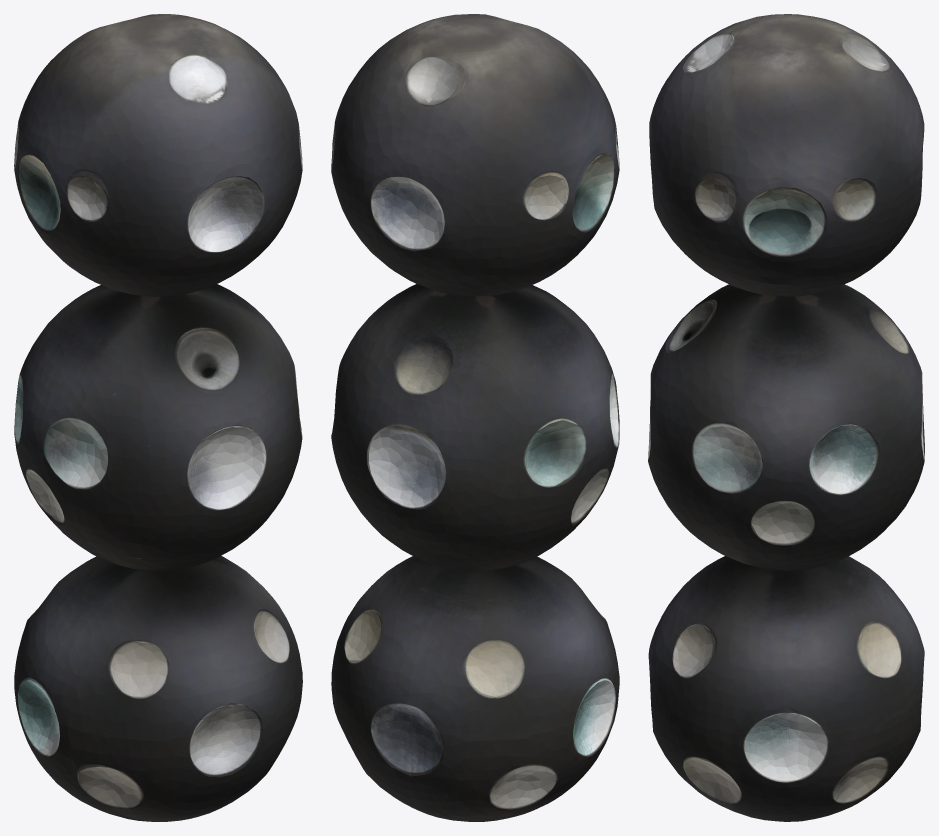
The model's file is 3Balls_0518183948_texture.fbx.
3 renders of one model, left to right at view 1: azimuth 30°, elevation 25°; view 2: azimuth 150°, elevation 25°; view 3: azimuth 270°, elevation 25°, orthographic.
Visible parts, largest first — view 1: temp; view 2: temp; view 3: temp.
Part boxes in pixels (x1,y1,x2,y2): temp: (14, 14, 302, 821); temp: (331, 14, 619, 821); temp: (648, 14, 924, 821).
Bounding box in the file's own units: 68.71 × 200 × 64.97.
1 material, 1 textured.
